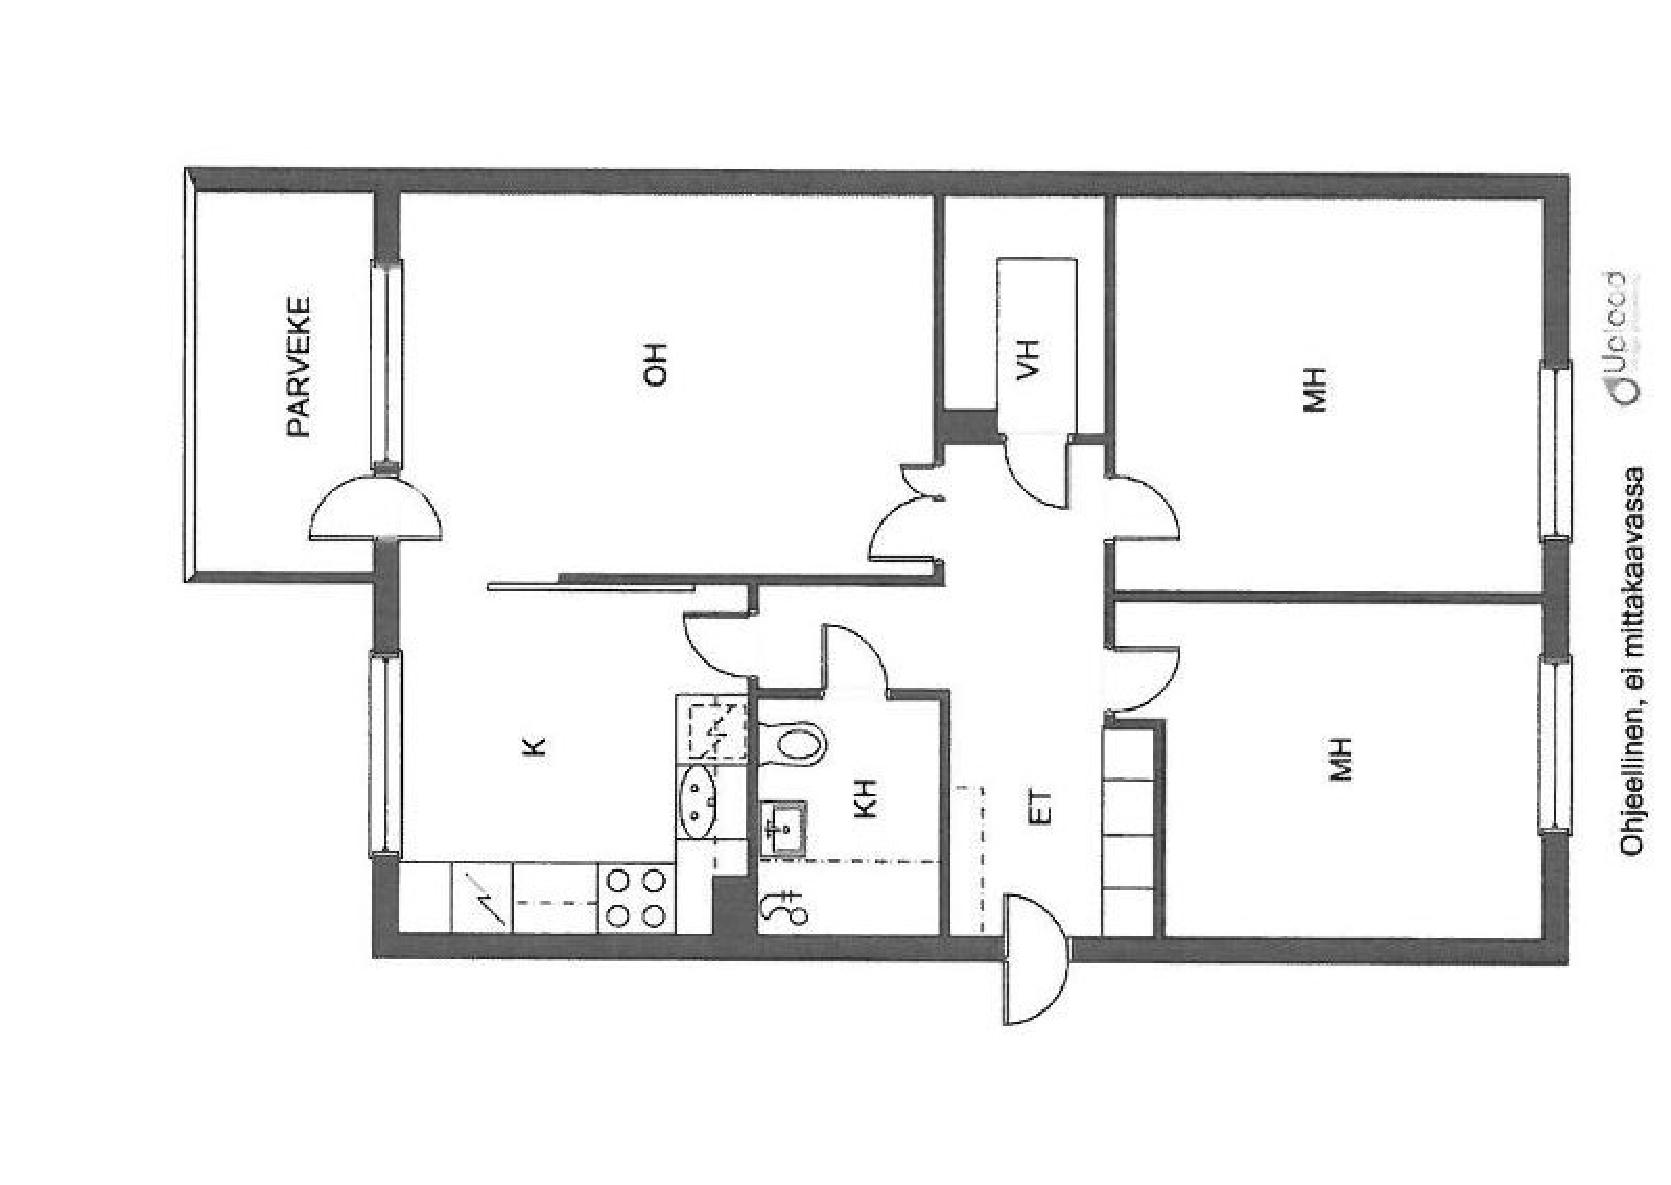door: (303, 475, 448, 553), (993, 893, 1070, 1023), (869, 460, 958, 566), (1098, 644, 1188, 719), (1005, 430, 1080, 516), (816, 621, 891, 700), (675, 610, 762, 678), (1105, 471, 1182, 544)
window: (371, 260, 403, 466), (1538, 358, 1572, 541), (1535, 658, 1568, 828), (371, 654, 398, 849)
zone: (400, 183, 943, 936), (752, 433, 1158, 944), (1114, 189, 1538, 591), (1118, 594, 1541, 937), (195, 189, 373, 571), (757, 690, 941, 931), (946, 185, 1112, 435)
